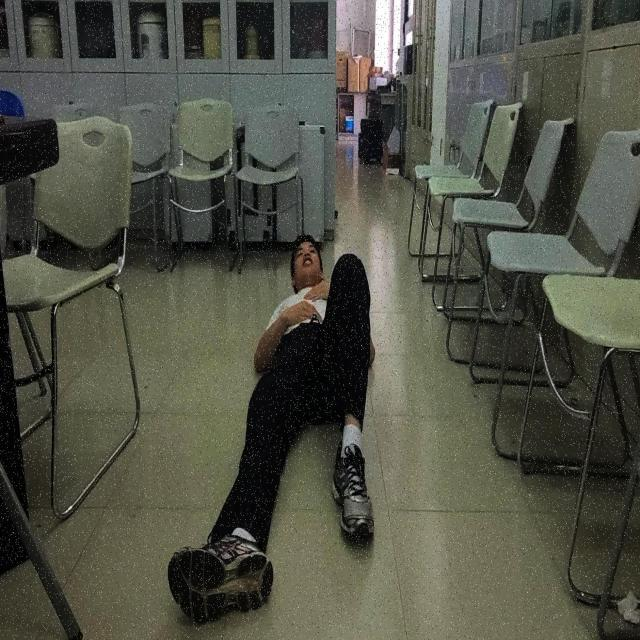fall: (166, 232, 378, 624)
